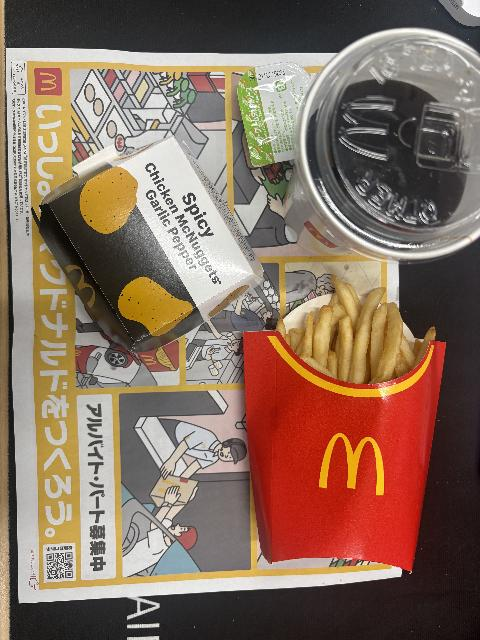drink: (294, 28, 480, 264)
fries: (243, 275, 446, 575)
nuggets: (32, 129, 266, 355)
sauce: (239, 62, 313, 169)
